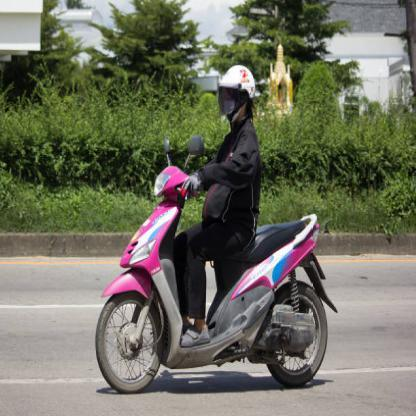Motorcycle: (89, 137, 338, 391)
